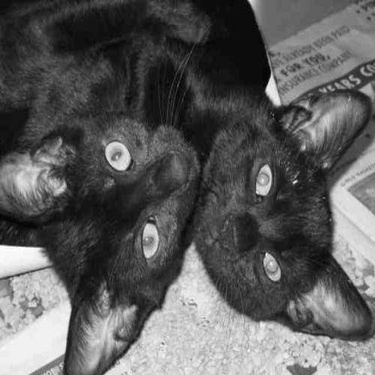cat: (7, 8, 372, 343), (1, 14, 218, 370)
